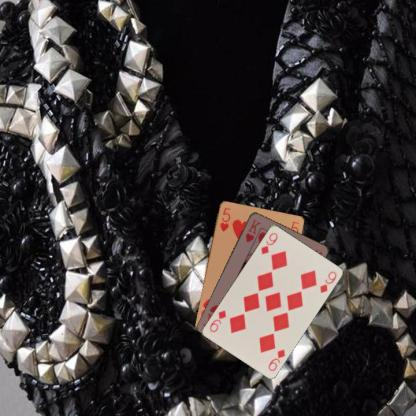5h: (217, 204, 232, 233)
9d: (258, 230, 279, 255), (266, 346, 286, 372)
Kh: (242, 216, 262, 244)
